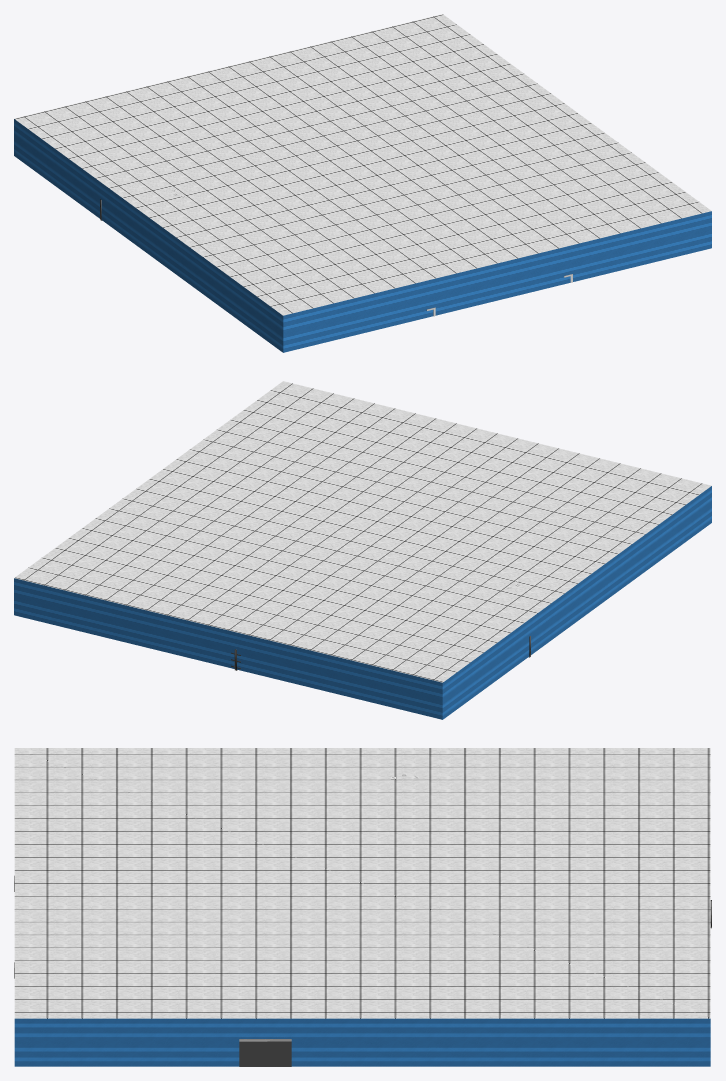
The model's file is store4.obj.
The picture shows the model from 3 angles, top to bottom: view 1: azimuth 30°, elevation 25°; view 2: azimuth 150°, elevation 25°; view 3: azimuth 270°, elevation 25°; orthographic projection. The views are drawn at different scales.
Visible parts, largest first — view 1: Cube.001_Cube.000; view 2: Cube.001_Cube.000; view 3: Cube.001_Cube.000, Cube.003_Cube.001.
Part boxes in pixels (x1=…): Cube.001_Cube.000: x1=14, y1=14, x2=711, y2=352; Cube.001_Cube.000: x1=14, y1=381, x2=711, y2=719; Cube.001_Cube.000: x1=14, y1=748, x2=710, y2=1066; Cube.003_Cube.001: x1=239, y1=1039, x2=291, y2=1066.
Bounding box in the file's own units: 48.21 × 4.12 × 52.48.
Materials: 33 (33 with a texture image).
